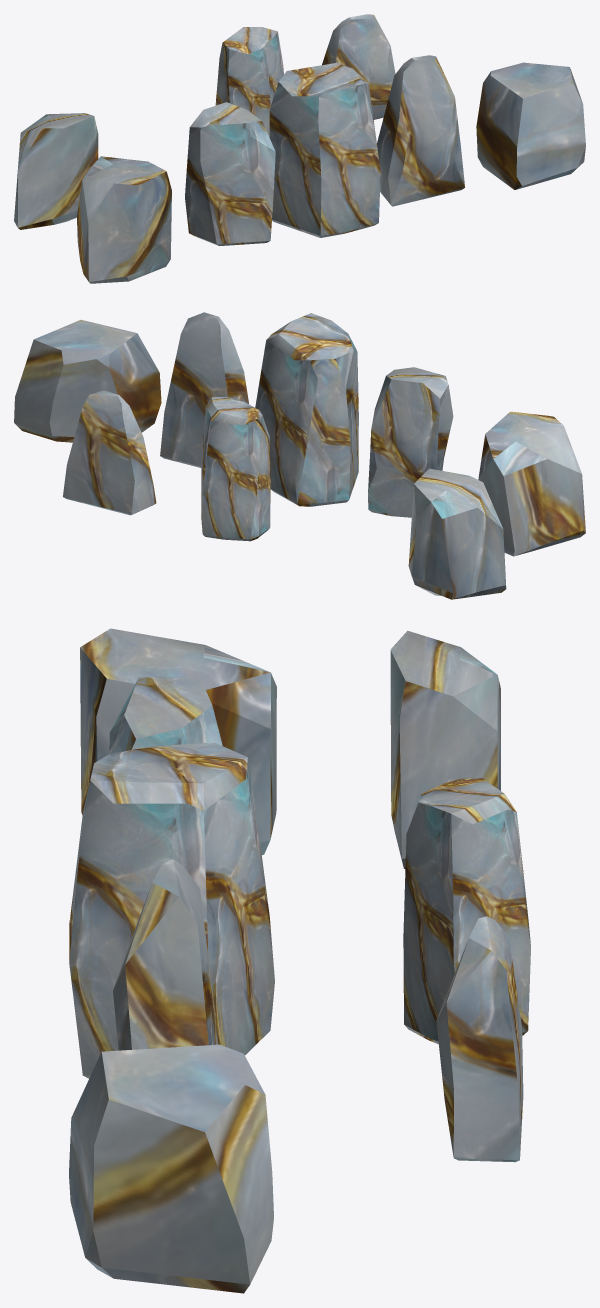
Rendered from Quatz Piece.fbx.
3 renders of one model, top to bottom at view 1: azimuth 30°, elevation 25°; view 2: azimuth 150°, elevation 25°; view 3: azimuth 270°, elevation 25°, orthographic. The views are drawn at different scales.
Parts seen in each view (by area): view 1: Quatz Piece.006, Quatz Piece.008, Quatz Piece.005, Quatz Piece.001, Quatz Piece.003, Quatz Piece.002, Quatz Piece.007, Quatz Piece.004; view 2: Quatz Piece.006, Quatz Piece.008, Quatz Piece.001, Quatz Piece.002, Quatz Piece.005, Quatz Piece.007, Quatz Piece.004, Quatz Piece.003; view 3: Quatz Piece.008, Quatz Piece.006, Quatz Piece.007, Quatz Piece.001, Quatz Piece.004, Quatz Piece.002, Quatz Piece.003, Quatz Piece.005.
Part boxes in pixels (x1,y1,x2,y2): Quatz Piece.006: [269, 62, 380, 237]; Quatz Piece.008: [476, 62, 585, 189]; Quatz Piece.005: [185, 102, 275, 245]; Quatz Piece.001: [77, 156, 171, 283]; Quatz Piece.003: [377, 55, 464, 206]; Quatz Piece.002: [14, 113, 98, 229]; Quatz Piece.007: [215, 27, 283, 137]; Quatz Piece.004: [322, 14, 395, 119]; Quatz Piece.006: [255, 313, 358, 506]; Quatz Piece.008: [14, 320, 161, 442]; Quatz Piece.001: [478, 411, 585, 556]; Quatz Piece.002: [408, 468, 506, 599]; Quatz Piece.005: [368, 367, 453, 517]; Quatz Piece.007: [201, 397, 270, 541]; Quatz Piece.004: [63, 390, 156, 515]; Quatz Piece.003: [160, 312, 249, 467]; Quatz Piece.008: [69, 1044, 273, 1293]; Quatz Piece.006: [69, 742, 274, 1078]; Quatz Piece.007: [403, 778, 530, 1043]; Quatz Piece.001: [80, 628, 276, 854]; Quatz Piece.004: [436, 916, 523, 1162]; Quatz Piece.002: [390, 630, 500, 868]; Quatz Piece.003: [113, 859, 216, 1050]; Quatz Piece.005: [109, 677, 222, 753].
Bounding box in the file's own units: 1915 × 532 × 748.
Materials: 1 (1 with a texture image).
